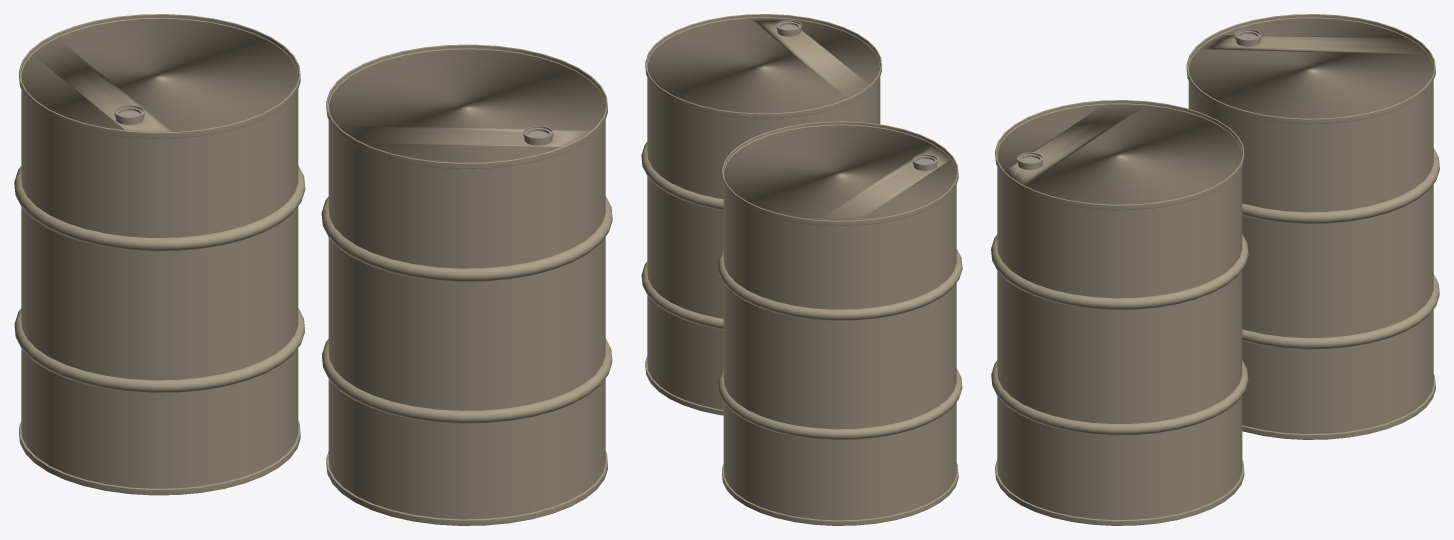
The model's file is barrel.dae.
3 views of the same model, side by side, from view 1: azimuth 30°, elevation 25°; view 2: azimuth 150°, elevation 25°; view 3: azimuth 270°, elevation 25° (orthographic). The views are drawn at different scales.
Visible parts, largest first — view 1: Group1, Group2; view 2: Group1, Group2; view 3: Group2, Group1.
Part boxes in pixels (x1=…): Group1: x1=14, y1=14, x2=305, y2=495; Group2: x1=321, y1=44, x2=612, y2=525; Group1: x1=718, y1=121, x2=962, y2=525; Group2: x1=641, y1=14, x2=881, y2=415; Group2: x1=991, y1=100, x2=1248, y2=525; Group1: x1=1186, y1=14, x2=1439, y2=439.
Bounding box in the file's own units: 11.19 × 10.9 × 8.69.
